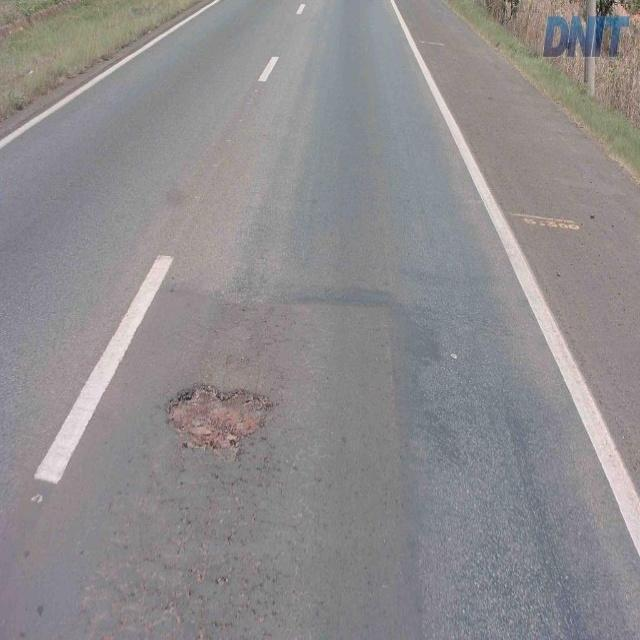pothole: (160, 373, 279, 464)
